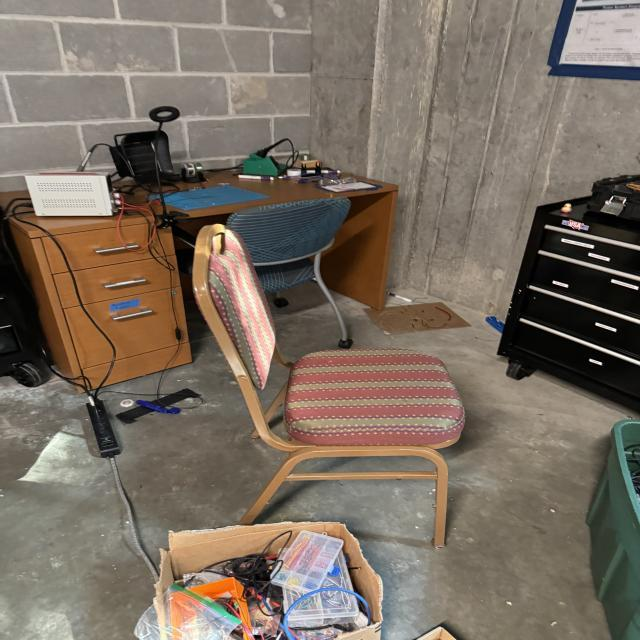chair: (188, 222, 466, 552)
